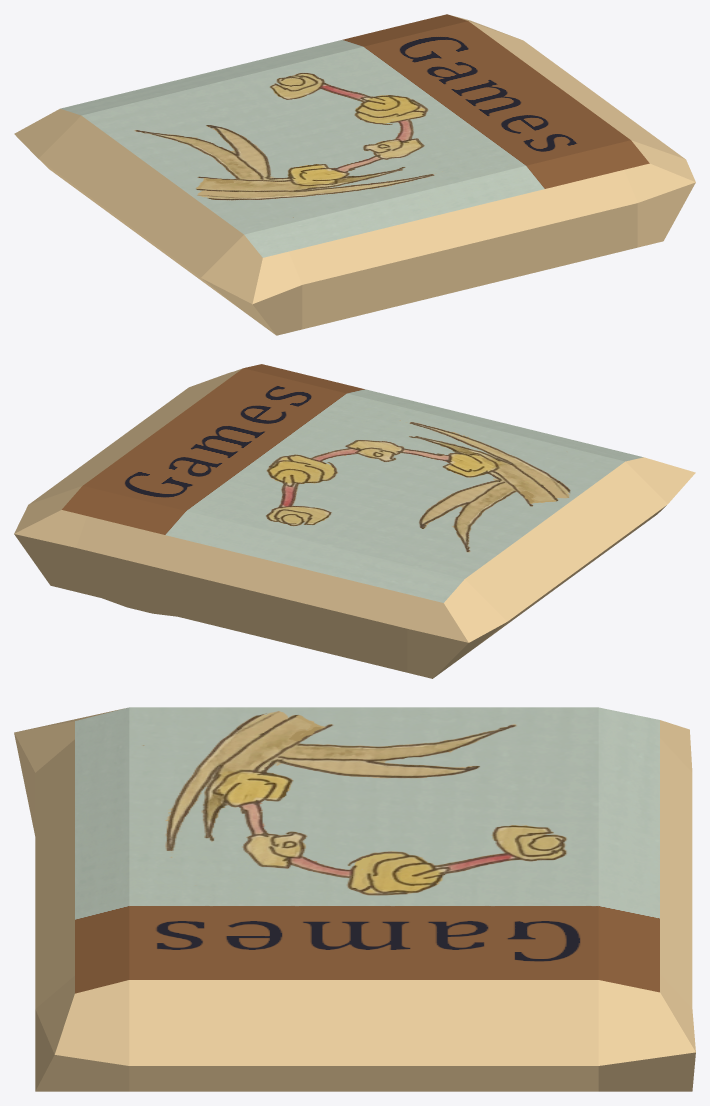
The model's file is packet_5.glb.
The picture shows the model from 3 angles, top to bottom: view 1: azimuth 30°, elevation 25°; view 2: azimuth 150°, elevation 25°; view 3: azimuth 270°, elevation 25°; orthographic projection. The views are drawn at different scales.
Parts seen in each view (by area): view 1: Cube; view 2: Cube; view 3: Cube.
Boxes of the visible parts, x1,y1,x2,y2 form: Cube: (14, 14, 695, 335); Cube: (14, 364, 695, 678); Cube: (14, 707, 695, 1091).
Bounding box in the file's own units: 2.46 × 0.3898 × 2.08.
Materials: 1 (1 with a texture image).
